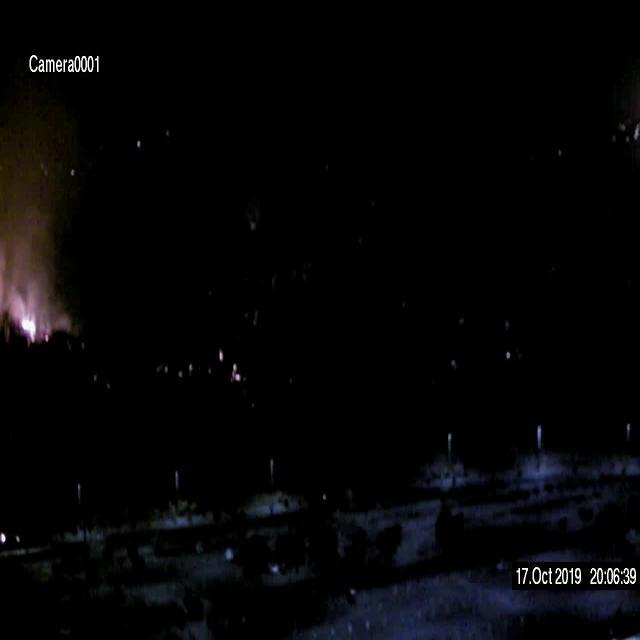Fire: (20, 316, 38, 340)
Smoke: (3, 208, 75, 334)
